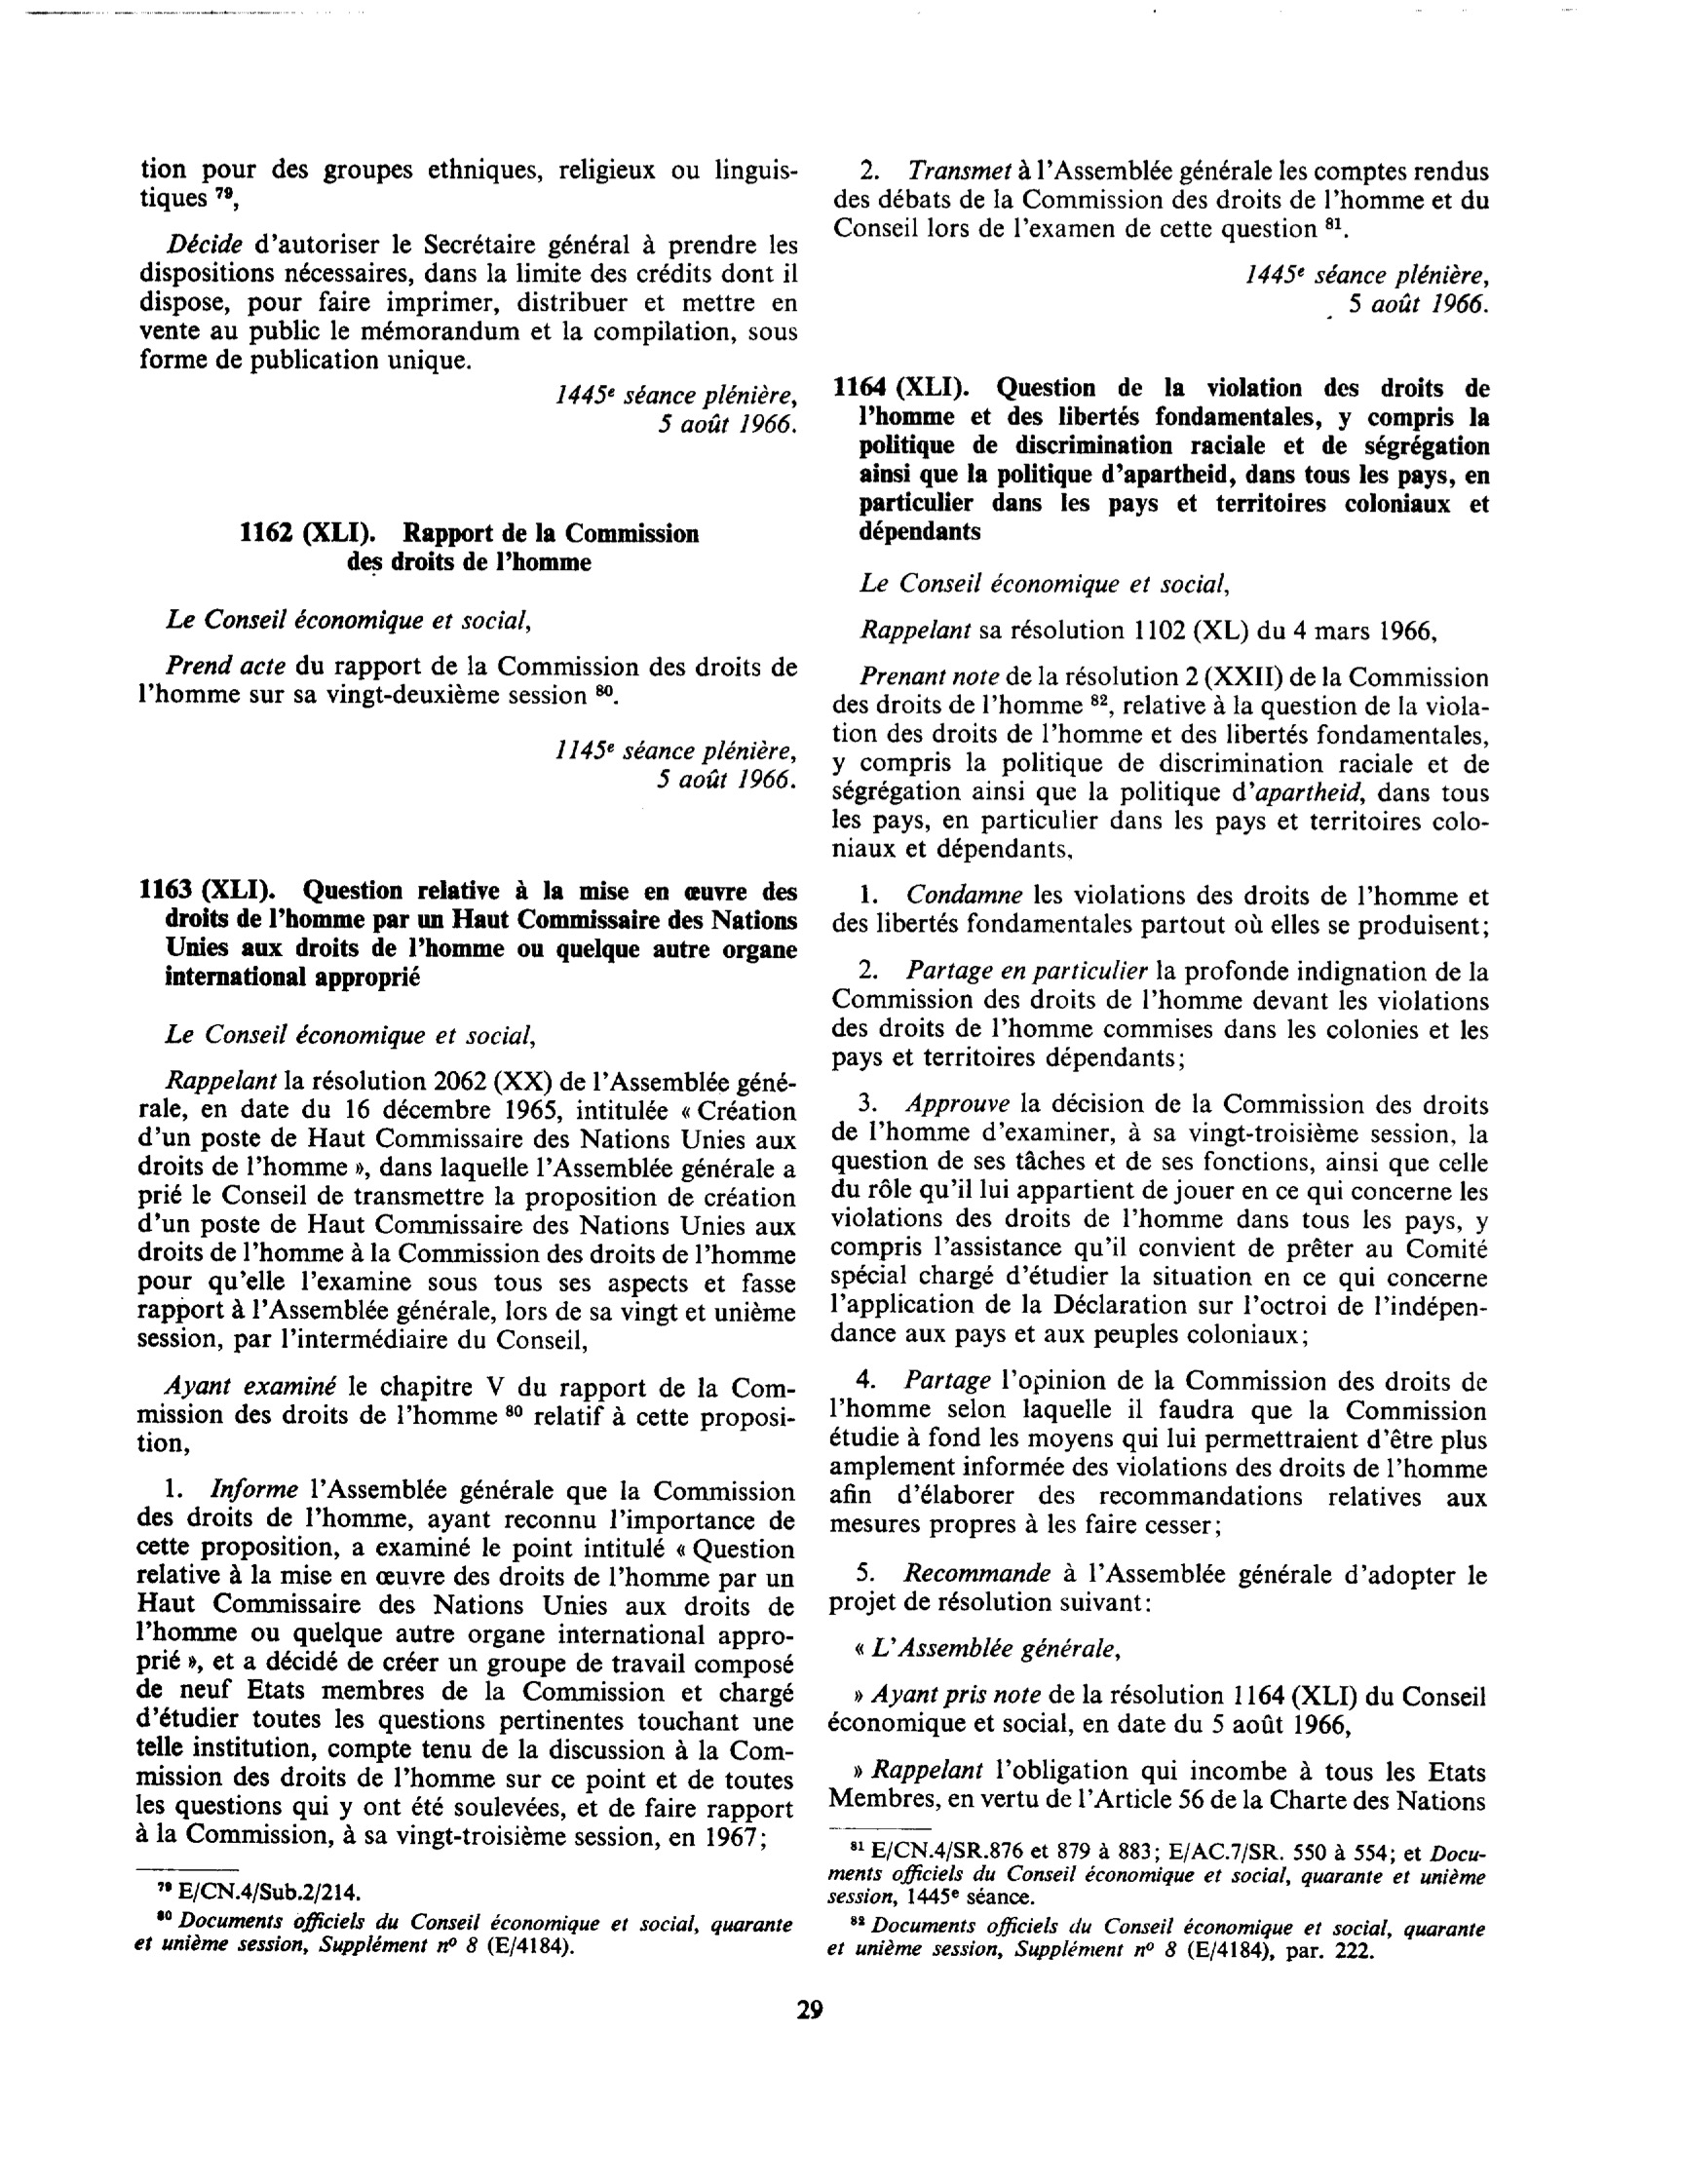MainZone-Continued: (132, 150, 804, 214)
MainZone-Date: (651, 405, 797, 444), (1342, 282, 1488, 321), (657, 763, 799, 795)
MainZone-Head: (827, 364, 1498, 548), (131, 866, 807, 995), (228, 509, 708, 580)
MainZone-ListItem: (131, 1471, 804, 1853), (825, 1083, 1498, 1351), (824, 1361, 1495, 1545), (825, 951, 1496, 1076), (824, 149, 1496, 248), (827, 874, 1498, 945), (822, 1554, 1495, 1623)
MainZone-P: (129, 1060, 804, 1354), (826, 657, 1498, 866), (132, 225, 806, 378), (130, 1369, 804, 1460), (825, 1751, 1496, 1820), (822, 1677, 1495, 1744), (131, 650, 806, 716), (850, 610, 1447, 646), (847, 563, 1246, 602), (152, 1013, 546, 1052), (148, 603, 542, 638), (831, 1628, 1131, 1669)
MainZone-Signature: (544, 729, 809, 768), (1236, 254, 1496, 289), (540, 376, 807, 405)
MarginTextZone-Notes: (822, 1833, 1495, 1911), (125, 1906, 798, 1971), (822, 1912, 1495, 1972), (132, 1873, 375, 1907)
NumberingZone: (788, 1992, 830, 2030)
